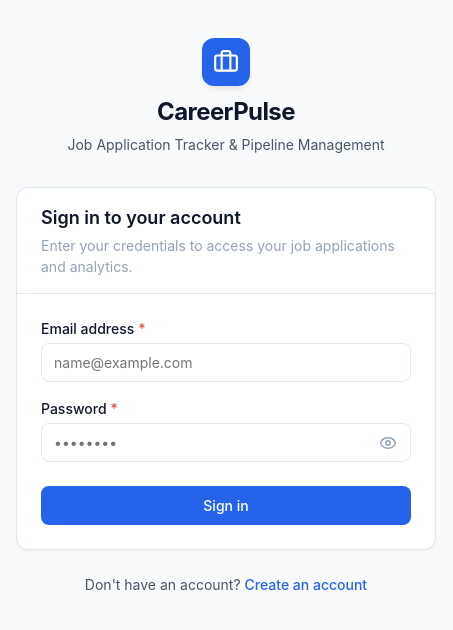
LoginPage Component (Phase 6.5C) › 2. validates required fields on submission
Click the button "Sign in" at (226, 505), box [41,486,411,524]
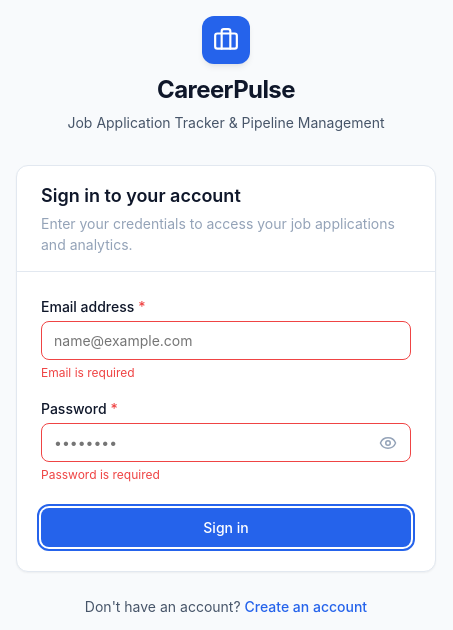
expect the text "Email is required" is shown: met, box [41,364,135,380]
expect the text "Password is required" is shown: met, box [41,466,160,482]
